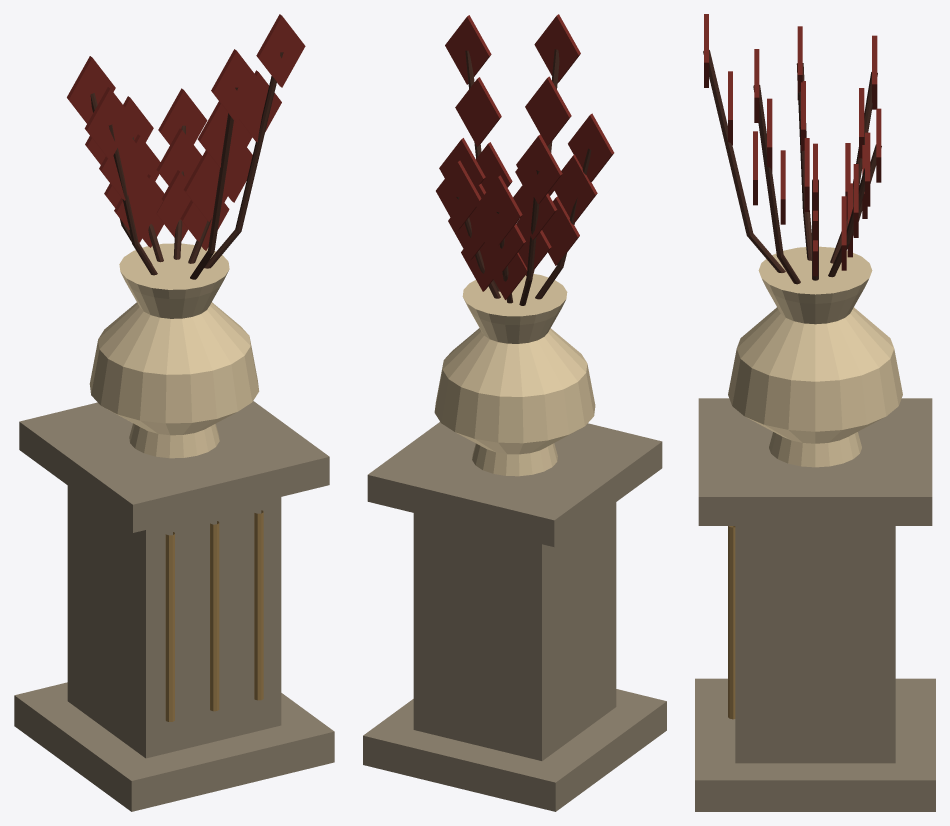
File: pedestal_vase.glb
3 renders of one model, left to right at view 1: azimuth 30°, elevation 25°; view 2: azimuth 150°, elevation 25°; view 3: azimuth 270°, elevation 25°, orthographic. The views are drawn at different scales.
Parts seen in each view (by area): view 1: Pedestal shaft, Ivory urn, Pedestal crown, Pedestal foot, Crimson leaf.008, Crimson leaf.017, Crimson leaf.014, Pedestal flute.002, Pedestal flute.001, Pedestal flute, Crimson leaf.006, Crimson leaf.012 (+13 smaller); view 2: Pedestal shaft, Ivory urn, Pedestal crown, Pedestal foot, Crimson leaf.020, Crimson leaf.016, Crimson leaf.005, Crimson leaf.007, Crimson leaf.011, Crimson leaf.014, Crimson leaf.017, Crimson leaf.013 (+12 smaller); view 3: Pedestal shaft, Ivory urn, Pedestal crown, Pedestal foot, Dry stem.002, Pedestal flute.002, Dry stem.005, Dry stem.004, Dry stem.001, Dry stem.003, Crimson leaf.009, Crimson leaf.015 (+3 smaller).
Boxes of the visible parts, left/top/right/bottom form: Pedestal shaft: left=67, top=485, right=281, bottom=758; Ivory urn: left=89, top=243, right=259, bottom=458; Pedestal crown: left=19, top=401, right=329, bottom=532; Pedestal foot: left=14, top=682, right=334, bottom=811; Crimson leaf.008: left=211, top=49, right=259, bottom=122; Crimson leaf.017: left=256, top=14, right=305, bottom=87; Crimson leaf.014: left=84, top=87, right=133, bottom=160; Pedestal flute.002: left=254, top=510, right=263, bottom=700; Pedestal flute.001: left=210, top=521, right=219, bottom=711; Pedestal flute: left=165, top=532, right=174, bottom=721; Crimson leaf.006: left=183, top=150, right=232, bottom=221; Crimson leaf.012: left=114, top=172, right=162, bottom=242; Pedestal shaft: left=413, top=502, right=616, bottom=760; Ivory urn: left=434, top=274, right=595, bottom=476; Pedestal crown: left=367, top=422, right=662, bottom=547; Pedestal foot: left=363, top=689, right=666, bottom=811; Crimson leaf.020: left=476, top=175, right=522, bottom=245; Crimson leaf.016: left=455, top=77, right=501, bottom=146; Crimson leaf.005: left=516, top=134, right=562, bottom=203; Crimson leaf.007: left=525, top=76, right=571, bottom=145; Crimson leaf.011: left=436, top=160, right=481, bottom=229; Crimson leaf.014: left=568, top=113, right=614, bottom=182; Crimson leaf.017: left=445, top=15, right=491, bottom=84; Crimson leaf.013: left=552, top=154, right=597, bottom=223; Pedestal shaft: left=735, top=526, right=895, bottom=763; Ivory urn: left=728, top=246, right=902, bottom=467; Pedestal crown: left=698, top=398, right=932, bottom=525; Pedestal foot: left=695, top=678, right=935, bottom=811; Dry stem.002: left=703, top=50, right=785, bottom=272; Pedestal flute.002: left=728, top=526, right=735, bottom=719; Dry stem.005: left=753, top=85, right=800, bottom=284; Dry stem.004: left=796, top=63, right=811, bottom=260; Dry stem.001: left=830, top=72, right=877, bottom=263; Dry stem.003: left=828, top=168, right=870, bottom=277; Crimson leaf.009: left=841, top=196, right=846, bottom=270; Crimson leaf.015: left=780, top=150, right=785, bottom=224.
Bounding box in the file's own units: 1.65 × 5.68 × 1.65.
